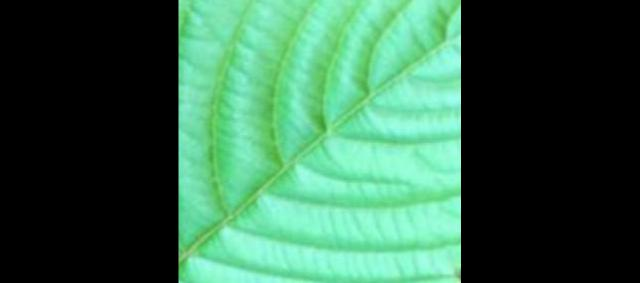kratom: (178, 0, 461, 282)
